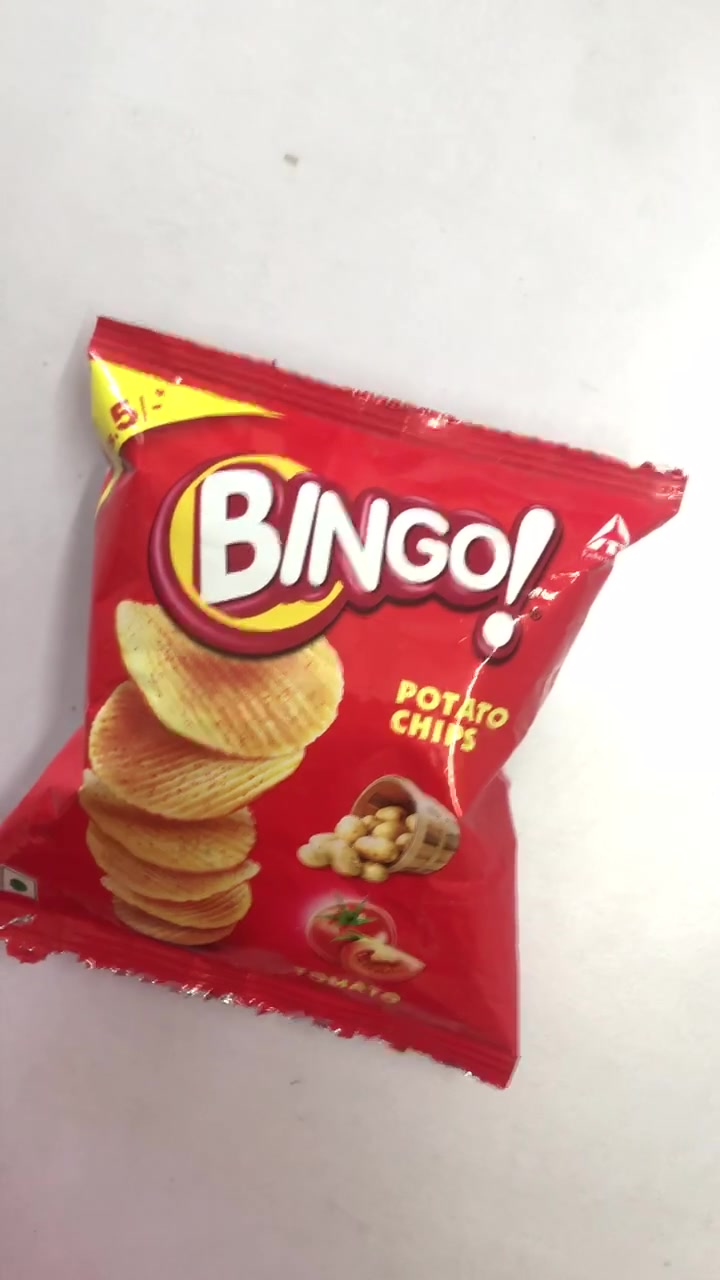Bingo: (3, 321, 684, 1084)
